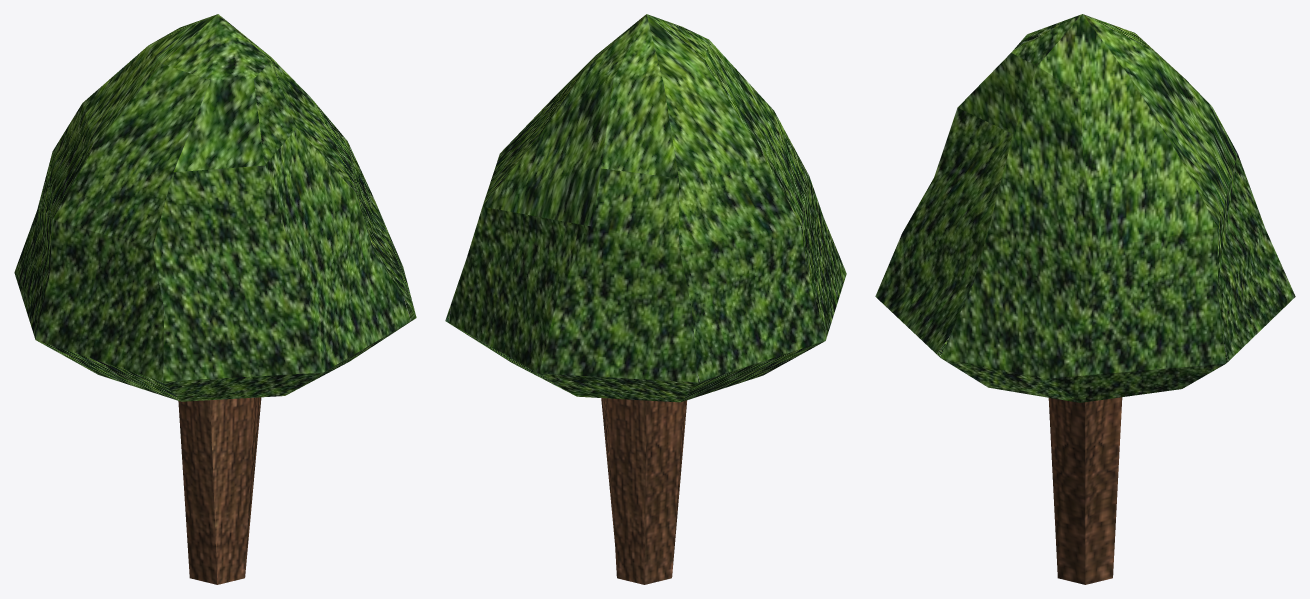
Rendered from Tree4 (1).fbx.
3 renders of one model, left to right at view 1: azimuth 30°, elevation 25°; view 2: azimuth 150°, elevation 25°; view 3: azimuth 270°, elevation 25°, orthographic.
Visible parts, largest first — view 1: tree_var4; view 2: tree_var4; view 3: tree_var4.
Boxes of the visible parts, bbox=[...] form: tree_var4: bbox=[14, 14, 416, 584]; tree_var4: bbox=[445, 14, 846, 584]; tree_var4: bbox=[875, 14, 1295, 584].
Size of the model in its own units: 4.71 by 7.17 by 4.9.
1 material, 1 textured.
